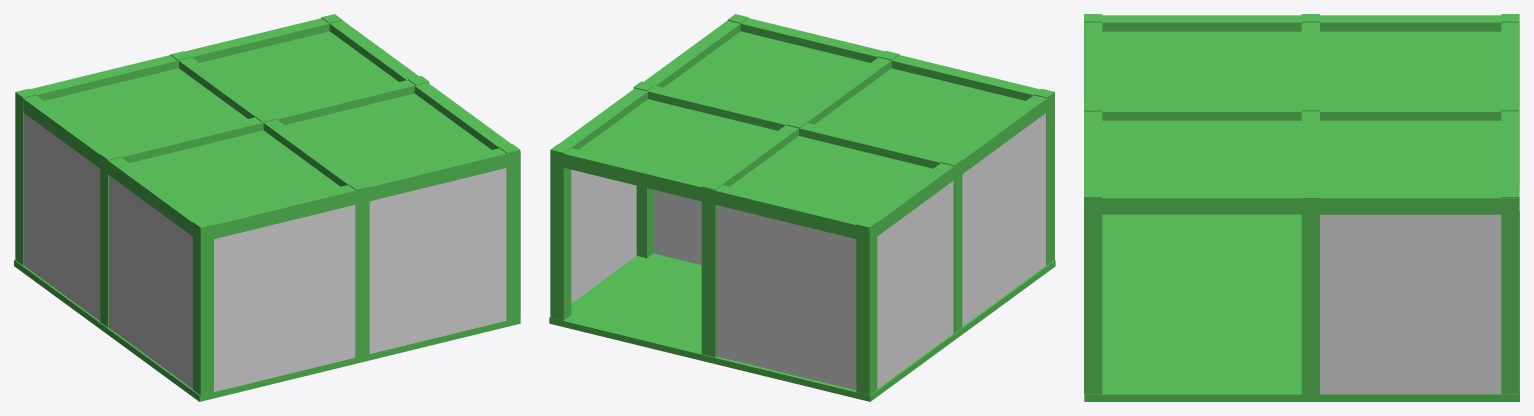
Rendered from Maze.fbx.
3 views of the same model, side by side, from view 1: azimuth 30°, elevation 25°; view 2: azimuth 150°, elevation 25°; view 3: azimuth 270°, elevation 25° (orthographic). The views are drawn at different scales.
Visible parts, largest first — view 1: Maze; view 2: Maze; view 3: Maze.
Part boxes in pixels (left/top/right/bottom): Maze: left=14, top=14, right=520, bottom=401; Maze: left=549, top=14, right=1055, bottom=401; Maze: left=1084, top=14, right=1519, bottom=401.
Size of the model in its own units: 401 by 207 by 400.
